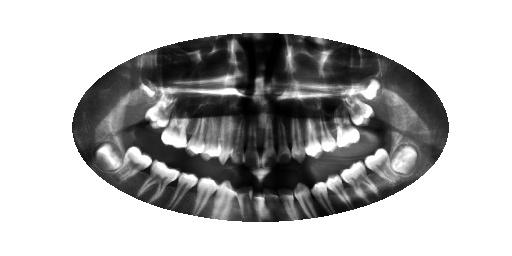Cavity: (261, 185, 289, 222), (243, 111, 259, 171), (261, 114, 278, 169), (230, 108, 246, 166), (276, 117, 293, 166)
Fillings: (134, 159, 183, 206), (336, 159, 380, 200), (142, 91, 185, 129), (339, 93, 375, 131), (166, 170, 199, 210), (201, 101, 221, 164), (185, 109, 208, 157), (303, 115, 322, 160), (236, 185, 254, 220)
